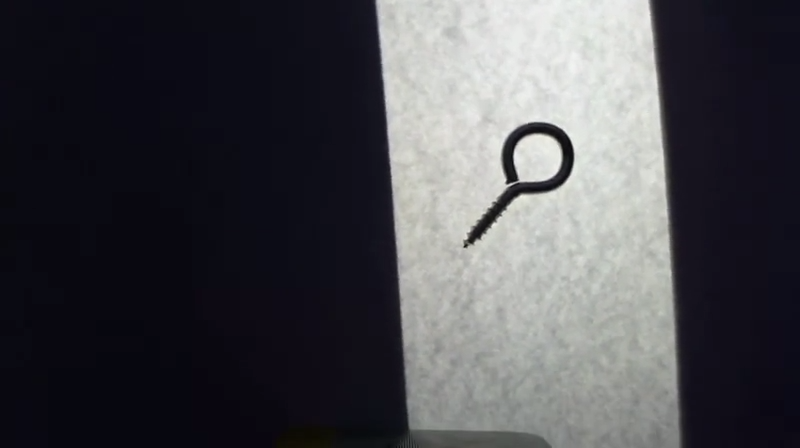O001: (459, 120, 577, 255)
